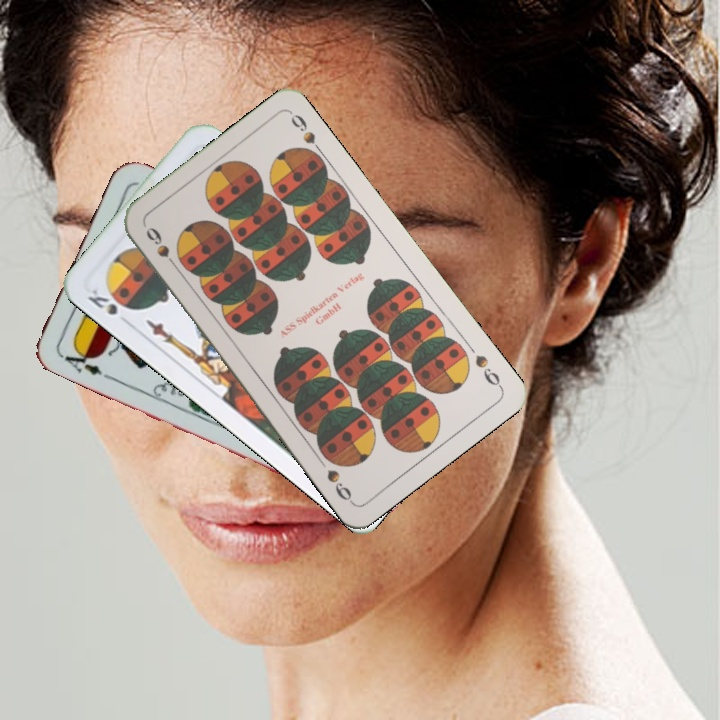EA: (55, 343, 112, 382)
S9: (141, 222, 182, 273), (470, 350, 505, 391)
SK: (83, 285, 120, 318)
